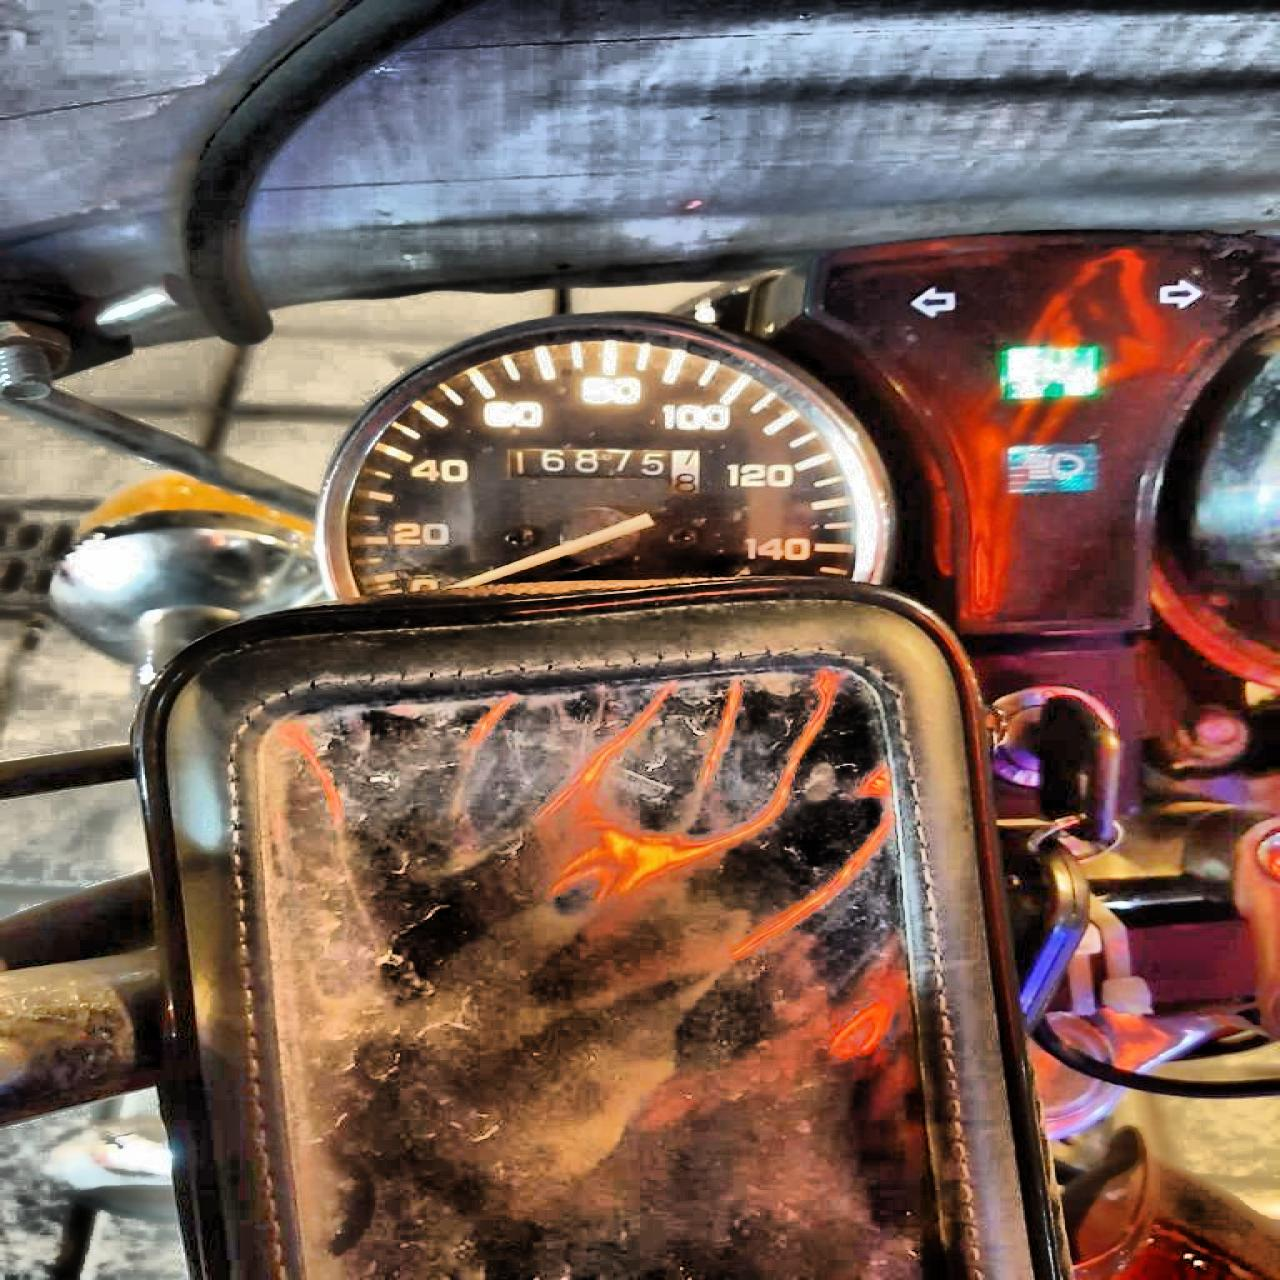1: (516, 449, 522, 474)
5: (639, 451, 663, 475)
6: (538, 448, 564, 471)
7: (605, 448, 632, 471), (675, 447, 693, 464)
8: (572, 449, 597, 472), (674, 471, 694, 491)
odometer: (502, 445, 703, 495)
